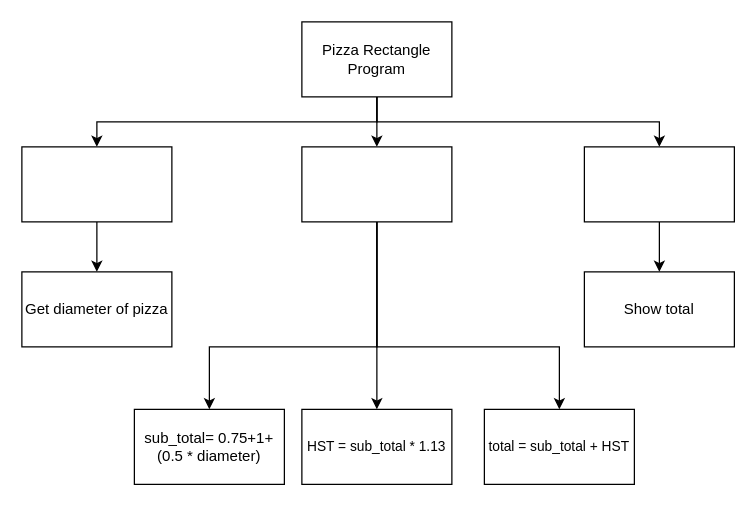
The diagram is 756 pixels wide and 506 high, and some of its shapes have lost their labels. Each missing label, with the centre of its shape:
Input: the point at 96,184
Output: the point at 658,184
Process: the point at 376,184
